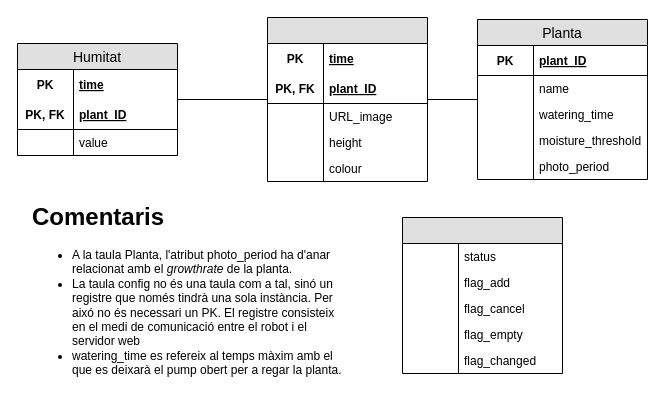
The diagram is 665 pixels wide and 395 high, and some of its shapes have lost their labels. Here are the shapes that lost their labels. From the top down, the box of each, then its label:
(266, 16, 428, 182): Imatge
(402, 216, 562, 374): Config
